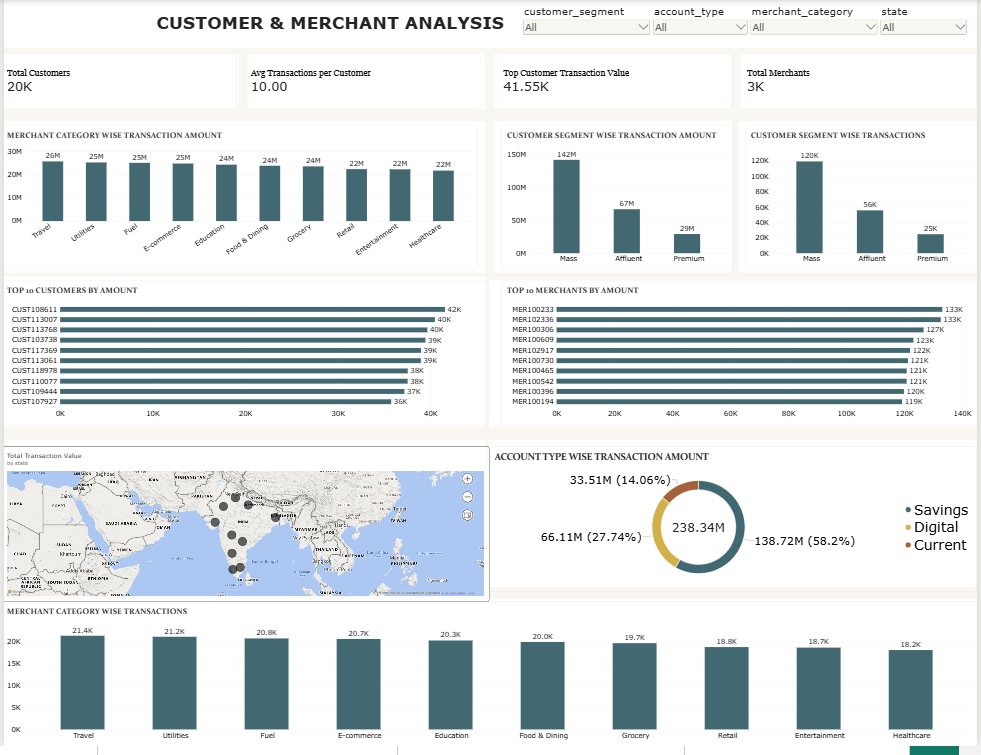

The page's visual inventory and layout, read from the dashboard file:
{"tool":"powerbi","page":{"name":"CUSTOMER & MERCHANT ANALYSIS","canvas":[3000,2300],"ordinal":1},"visuals":[{"type":"group","id":"g1","title":"Group 5","box":[-8,-4,3008,2304],"z":0,"group":"g7"},{"type":"group","id":"g2","title":"Group 3","box":[-8,-4,3008,339.9],"z":0,"group":"g1"},{"type":"group","id":"g3","title":"Group 1","box":[-8,-4,3008,151.1],"z":0,"group":"g2"},{"type":"shape","box":[-8,-4,3008,151.1],"z":0,"group":"g3"},{"type":"shape","box":[-8,166,730.9,170],"z":0,"group":"g4"},{"type":"shape","box":[-8,373.7,1491.4,467.3],"z":0,"group":"g5"},{"type":"shape","box":[-8,1355.7,1491.4,467.3],"z":0,"group":"g6"},{"type":"textbox","box":[468.3,33.8,1077.9,75.5],"z":1000,"group":"g3"},{"type":"group","id":"g4","title":"Group 2","box":[-8,166,3008,170],"z":1000,"group":"g2"},{"type":"shape","box":[1510.1,166,730.9,170],"z":1000,"group":"g4"},{"type":"group","id":"g5","title":"Group 4","box":[-8,373.7,3008,944.3],"z":1000,"group":"g1"},{"type":"clusteredColumnChart","title":"MERCHANT CATEGORY WISE TRANSACTION AMOUNT","fields":{"Category":["public merchants.merchant_category"],"Y":["public customers.Total Transaction Value"]},"box":[-8,384,1468.2,448],"z":1000,"group":"g7"},{"type":"shape","box":[-8,853.1,1491.4,464.8],"z":1000,"group":"g5"},{"type":"slicer","fields":{"Values":["public customers.customer_segment"]},"box":[1596.3,14.9,401.1,132.2],"z":2000,"group":"g3"},{"type":"cardVisual","fields":{"Data":["public customers.Total Customers"]},"box":[-8,166,726.9,170],"z":2000,"group":"g2"},{"type":"shape","box":[2269.1,166,730.9,170],"z":2000,"group":"g4"},{"type":"shape","box":[1508.6,373.7,733,467.3],"z":2000,"group":"g5"},{"type":"group","id":"g6","title":"Group 4","box":[-8,1355.7,3008,944.3],"z":2000,"group":"g1"},{"type":"shape","box":[1496,1355.7,1504,453.2],"z":2000,"group":"g6"},{"type":"clusteredColumnChart","title":"MERCHANT CATEGORY WISE TRANSACTIONS","fields":{"Category":["public merchants.merchant_category"],"Y":["public customers.Total Transactions"]},"box":[-8,1852,3008,448],"z":2000,"group":"g7"},{"type":"slicer","fields":{"Values":["public customers.account_type"]},"box":[1997.3,14.9,300.8,94.4],"z":3000,"group":"g3"},{"type":"cardVisual","fields":{"Data":["public customers.Avg Transactions per Customer"]},"box":[744,166,726.9,170],"z":3000,"group":"g2"},{"type":"shape","box":[751,166,730.9,170],"z":3000,"group":"g4"},{"type":"shape","box":[2267,373.7,733,467.3],"z":3000,"group":"g5"},{"type":"clusteredColumnChart","title":"CUSTOMER SEGMENT WISE TRANSACTION AMOUNT","fields":{"Category":["public customers.customer_segment"],"Y":["public customers.Total Transaction Value"]},"box":[1531.8,384,716.2,448],"z":3000,"group":"g7"},{"type":"slicer","fields":{"Values":["public merchants.merchant_category"]},"box":[2298.1,14.9,401.1,94.4],"z":4000,"group":"g3"},{"type":"cardVisual","fields":{"Data":["public customers.Total Merchants"]},"box":[2273.1,166,726.9,170],"z":4000,"group":"g2"},{"type":"clusteredColumnChart","title":"CUSTOMER SEGMENT WISE TRANSACTIONS","fields":{"Category":["public customers.customer_segment"],"Y":["public customers.Total Transactions"]},"box":[2283.8,384,716.2,448],"z":4000,"group":"g7"},{"type":"shape","box":[1496,863.3,1504,451.9],"z":4000,"group":"g5"},{"type":"shape","box":[-8,1846.7,3008,453.2],"z":4000,"group":"g6"},{"type":"slicer","fields":{"Values":["public customers.state"]},"box":[2699.2,14.9,275.7,94.4],"z":5000,"group":"g3"},{"type":"cardVisual","fields":{"Data":["public customers.Top Customer Transaction Value"]},"box":[1521.1,166,726.9,170],"z":5000,"group":"g2"},{"type":"clusteredBarChart","title":"TOP 10 CUSTOMERS BY AMOUNT","fields":{"Category":["public customers.customer_id"],"Y":["public customers.Total Transaction Value"]},"box":[-8,864,1504,448],"z":5000,"group":"g7"},{"type":"clusteredBarChart","title":"TOP 10 MERCHANTS BY AMOUNT","fields":{"Category":["public merchants.merchant_id"],"Y":["public customers.Total Transaction Value"]},"box":[1531.8,864,1468.2,448],"z":6000,"group":"g7"},{"type":"donutChart","title":"ACCOUNT TYPE WISE TRANSACTION AMOUNT","fields":{"Category":["public customers.account_type"],"Y":["public customers.Total Transaction Value"]},"box":[1496,1376,1504,448],"z":7000,"group":"g7"},{"type":"map","fields":{"Category":["public customers.state"],"Size":["public customers.Total Transaction Value"]},"box":[-8,1376,1504,480],"z":8000,"group":"g7"},{"type":"group","id":"g7","title":"Group 6","box":[-8,-4,3008,2304],"z":8001}]}

Visuals, with their boxes in screenshot pixels (x1, y1, x2, y2), scaled from the page's 3000x2300 canvas onto the 981x755 screenshot:
"Group 5" group: {"x1": 0, "y1": 0, "x2": 980, "y2": 754}
"Group 3" group: {"x1": 0, "y1": 0, "x2": 980, "y2": 110}
"Group 1" group: {"x1": 0, "y1": 0, "x2": 980, "y2": 48}
shape: {"x1": 0, "y1": 0, "x2": 980, "y2": 48}
shape: {"x1": 0, "y1": 54, "x2": 236, "y2": 110}
shape: {"x1": 0, "y1": 123, "x2": 485, "y2": 276}
shape: {"x1": 0, "y1": 445, "x2": 485, "y2": 598}
textbox: {"x1": 153, "y1": 11, "x2": 506, "y2": 36}
"Group 2" group: {"x1": 0, "y1": 54, "x2": 980, "y2": 110}
shape: {"x1": 494, "y1": 54, "x2": 733, "y2": 110}
"Group 4" group: {"x1": 0, "y1": 123, "x2": 980, "y2": 433}
"MERCHANT CATEGORY WISE TRANSACTION AMOUNT" clusteredColumnChart: {"x1": 0, "y1": 126, "x2": 477, "y2": 273}
shape: {"x1": 0, "y1": 280, "x2": 485, "y2": 433}
slicer - public customers.customer_segment: {"x1": 522, "y1": 5, "x2": 653, "y2": 48}
cardVisual - public customers.Total Customers: {"x1": 0, "y1": 54, "x2": 235, "y2": 110}
shape: {"x1": 742, "y1": 54, "x2": 980, "y2": 110}
shape: {"x1": 493, "y1": 123, "x2": 733, "y2": 276}
"Group 4" group: {"x1": 0, "y1": 445, "x2": 980, "y2": 754}
shape: {"x1": 489, "y1": 445, "x2": 980, "y2": 594}
"MERCHANT CATEGORY WISE TRANSACTIONS" clusteredColumnChart: {"x1": 0, "y1": 608, "x2": 980, "y2": 754}
slicer - public customers.account_type: {"x1": 653, "y1": 5, "x2": 751, "y2": 36}
cardVisual - public customers.Avg Transactions per Customer: {"x1": 243, "y1": 54, "x2": 481, "y2": 110}
shape: {"x1": 246, "y1": 54, "x2": 485, "y2": 110}
shape: {"x1": 741, "y1": 123, "x2": 980, "y2": 276}
"CUSTOMER SEGMENT WISE TRANSACTION AMOUNT" clusteredColumnChart: {"x1": 501, "y1": 126, "x2": 735, "y2": 273}
slicer - public merchants.merchant_category: {"x1": 751, "y1": 5, "x2": 883, "y2": 36}
cardVisual - public customers.Total Merchants: {"x1": 743, "y1": 54, "x2": 980, "y2": 110}
"CUSTOMER SEGMENT WISE TRANSACTIONS" clusteredColumnChart: {"x1": 747, "y1": 126, "x2": 980, "y2": 273}
shape: {"x1": 489, "y1": 283, "x2": 980, "y2": 432}
shape: {"x1": 0, "y1": 606, "x2": 980, "y2": 754}
slicer - public customers.state: {"x1": 883, "y1": 5, "x2": 973, "y2": 36}
cardVisual - public customers.Top Customer Transaction Value: {"x1": 497, "y1": 54, "x2": 735, "y2": 110}
"TOP 10 CUSTOMERS BY AMOUNT" clusteredBarChart: {"x1": 0, "y1": 284, "x2": 489, "y2": 431}
"TOP 10 MERCHANTS BY AMOUNT" clusteredBarChart: {"x1": 501, "y1": 284, "x2": 980, "y2": 431}
"ACCOUNT TYPE WISE TRANSACTION AMOUNT" donutChart: {"x1": 489, "y1": 452, "x2": 980, "y2": 599}
map - public customers.state x public customers.Total Transaction Value: {"x1": 0, "y1": 452, "x2": 489, "y2": 609}
"Group 6" group: {"x1": 0, "y1": 0, "x2": 980, "y2": 754}
